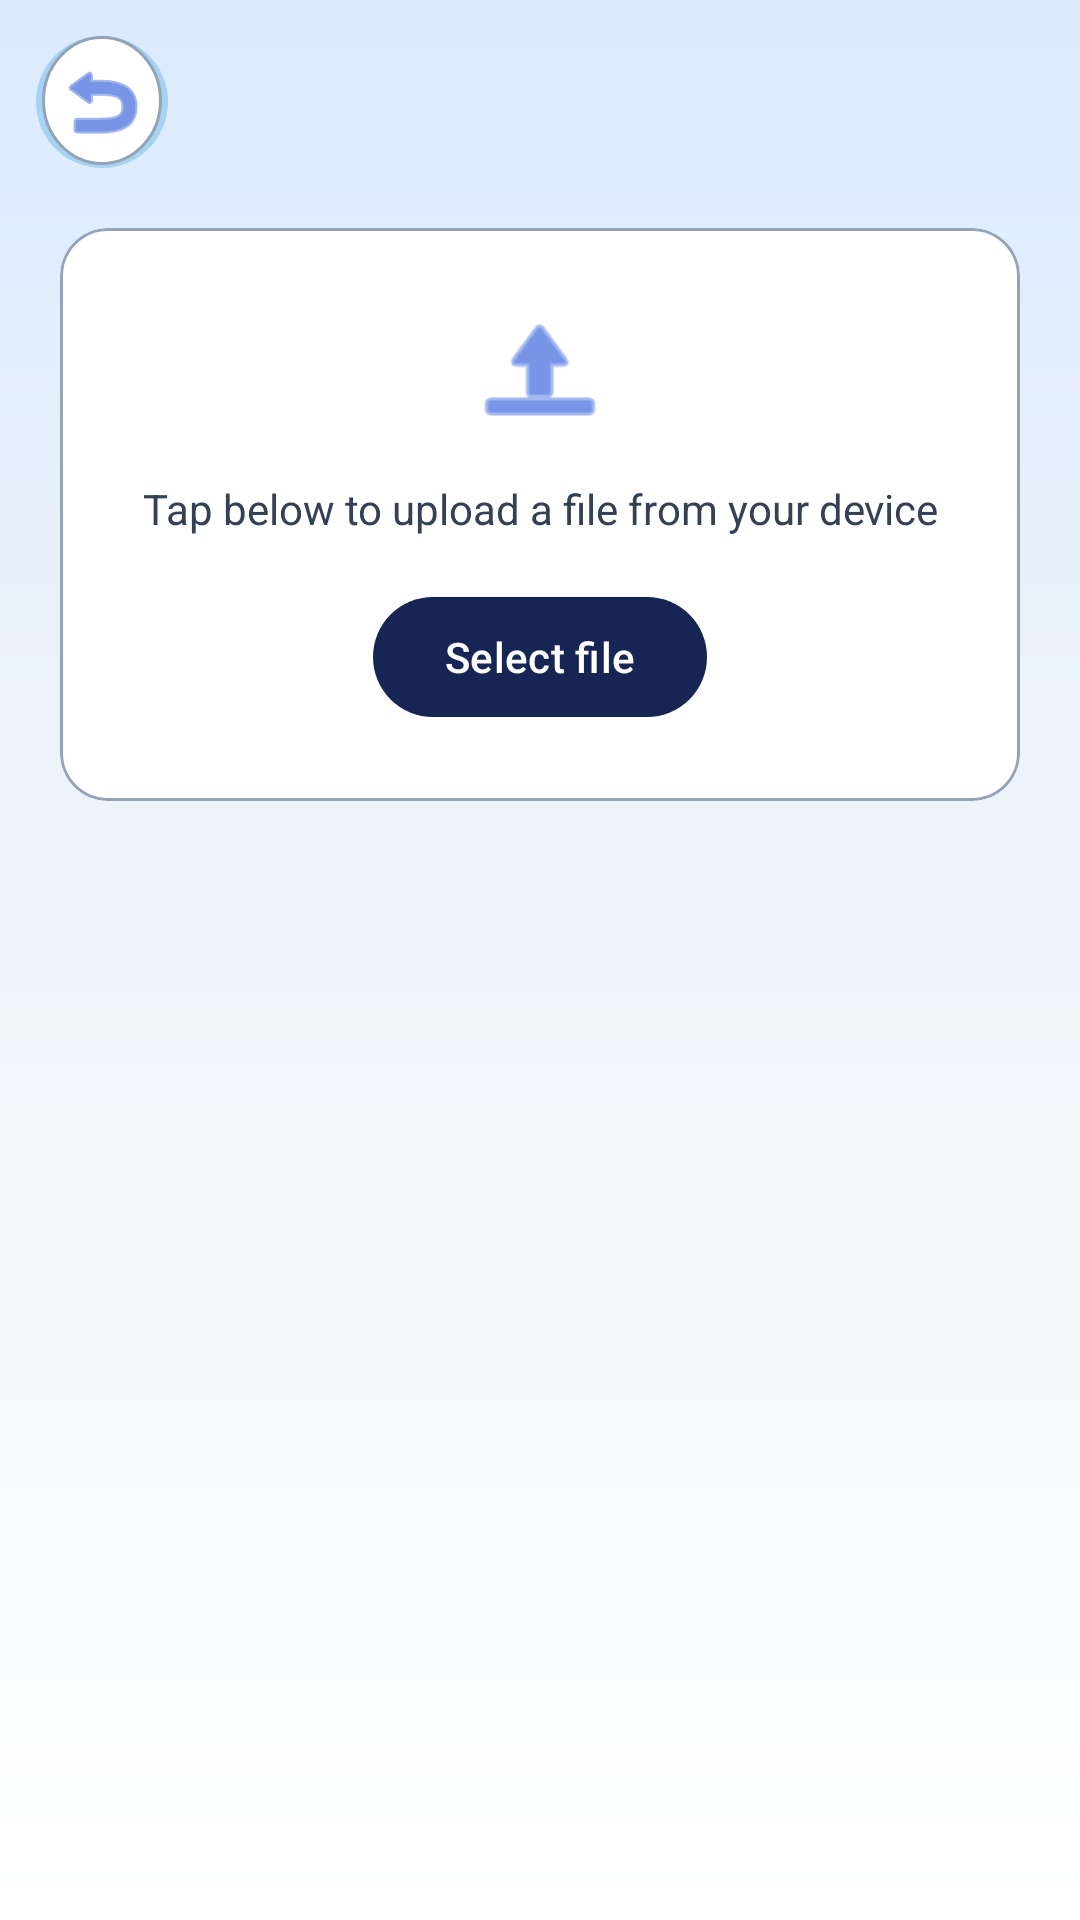

Named icons in this screenshot (1080*1920) and their bounding boxes, (x1, y1, x2, y2):
Back: (36, 36, 168, 168)
